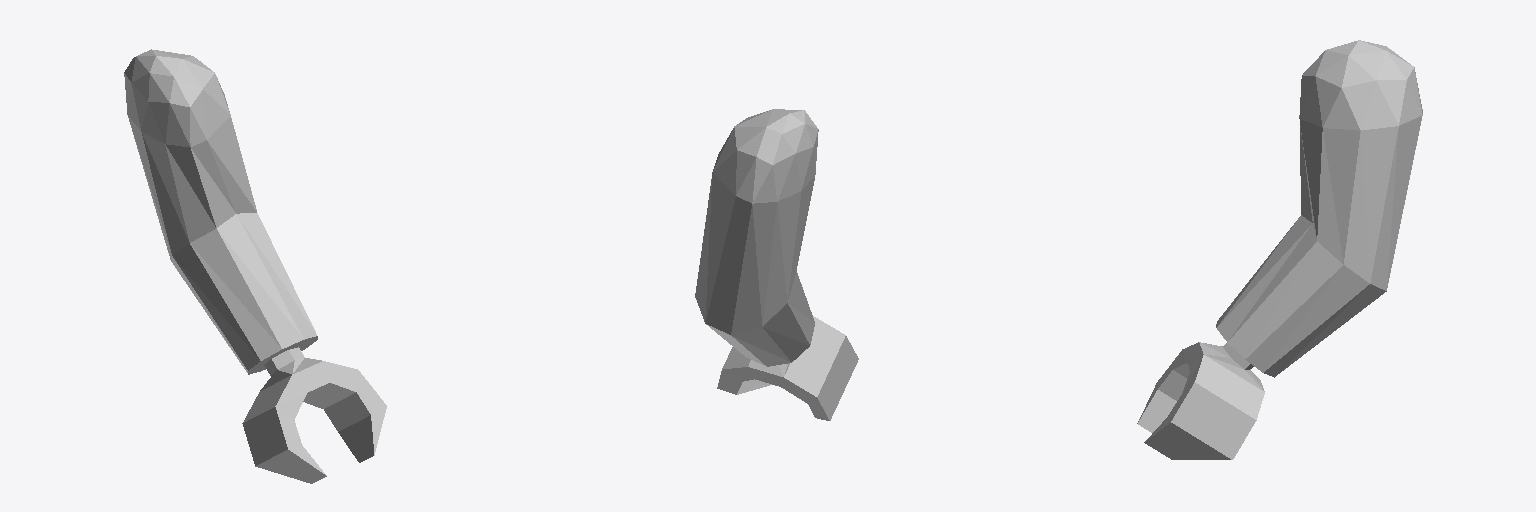
File: BrazoIzquierdoLego.obj
The picture shows the model from 3 angles: view 1: azimuth 30°, elevation 25°; view 2: azimuth 150°, elevation 25°; view 3: azimuth 270°, elevation 25°; orthographic projection.
Parts seen in each view (by area): view 1: BrazoIzquierdo; view 2: BrazoIzquierdo; view 3: BrazoIzquierdo.
Part boxes in pixels (x1,y1,x2,y2): BrazoIzquierdo: (124, 49, 386, 483); BrazoIzquierdo: (695, 109, 858, 420); BrazoIzquierdo: (1137, 40, 1422, 459).
Size of the model in its own units: 0.7103 by 1.65 by 1.15.